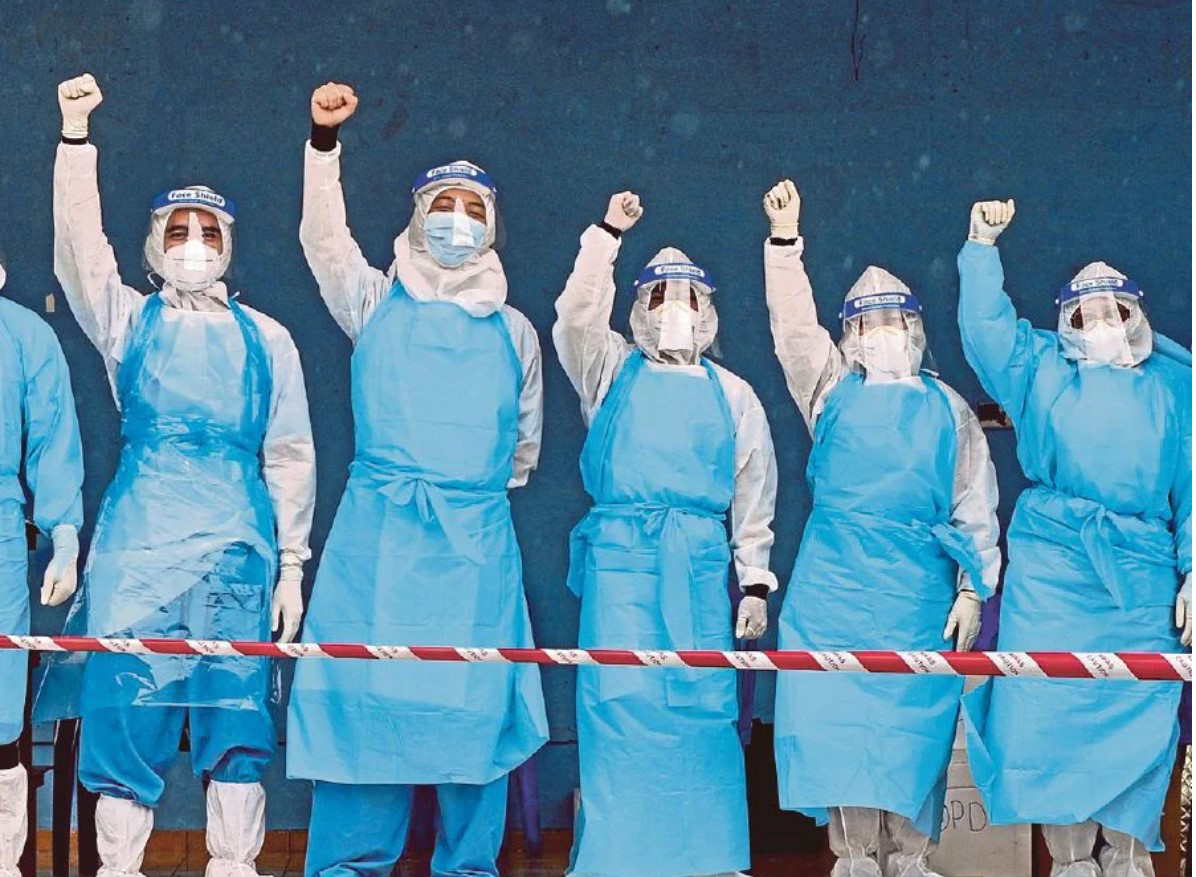Coverall: (51, 152, 309, 877), (300, 169, 531, 877), (771, 274, 982, 877), (984, 289, 1196, 877), (563, 323, 777, 877)
Gloves: (49, 66, 113, 147), (33, 521, 88, 613), (754, 170, 818, 249), (962, 188, 1020, 251), (261, 566, 305, 637), (597, 181, 651, 236), (730, 584, 775, 647), (942, 591, 986, 651)
with_mask: (418, 206, 493, 271), (163, 234, 228, 292), (857, 313, 916, 371), (645, 303, 702, 355)
